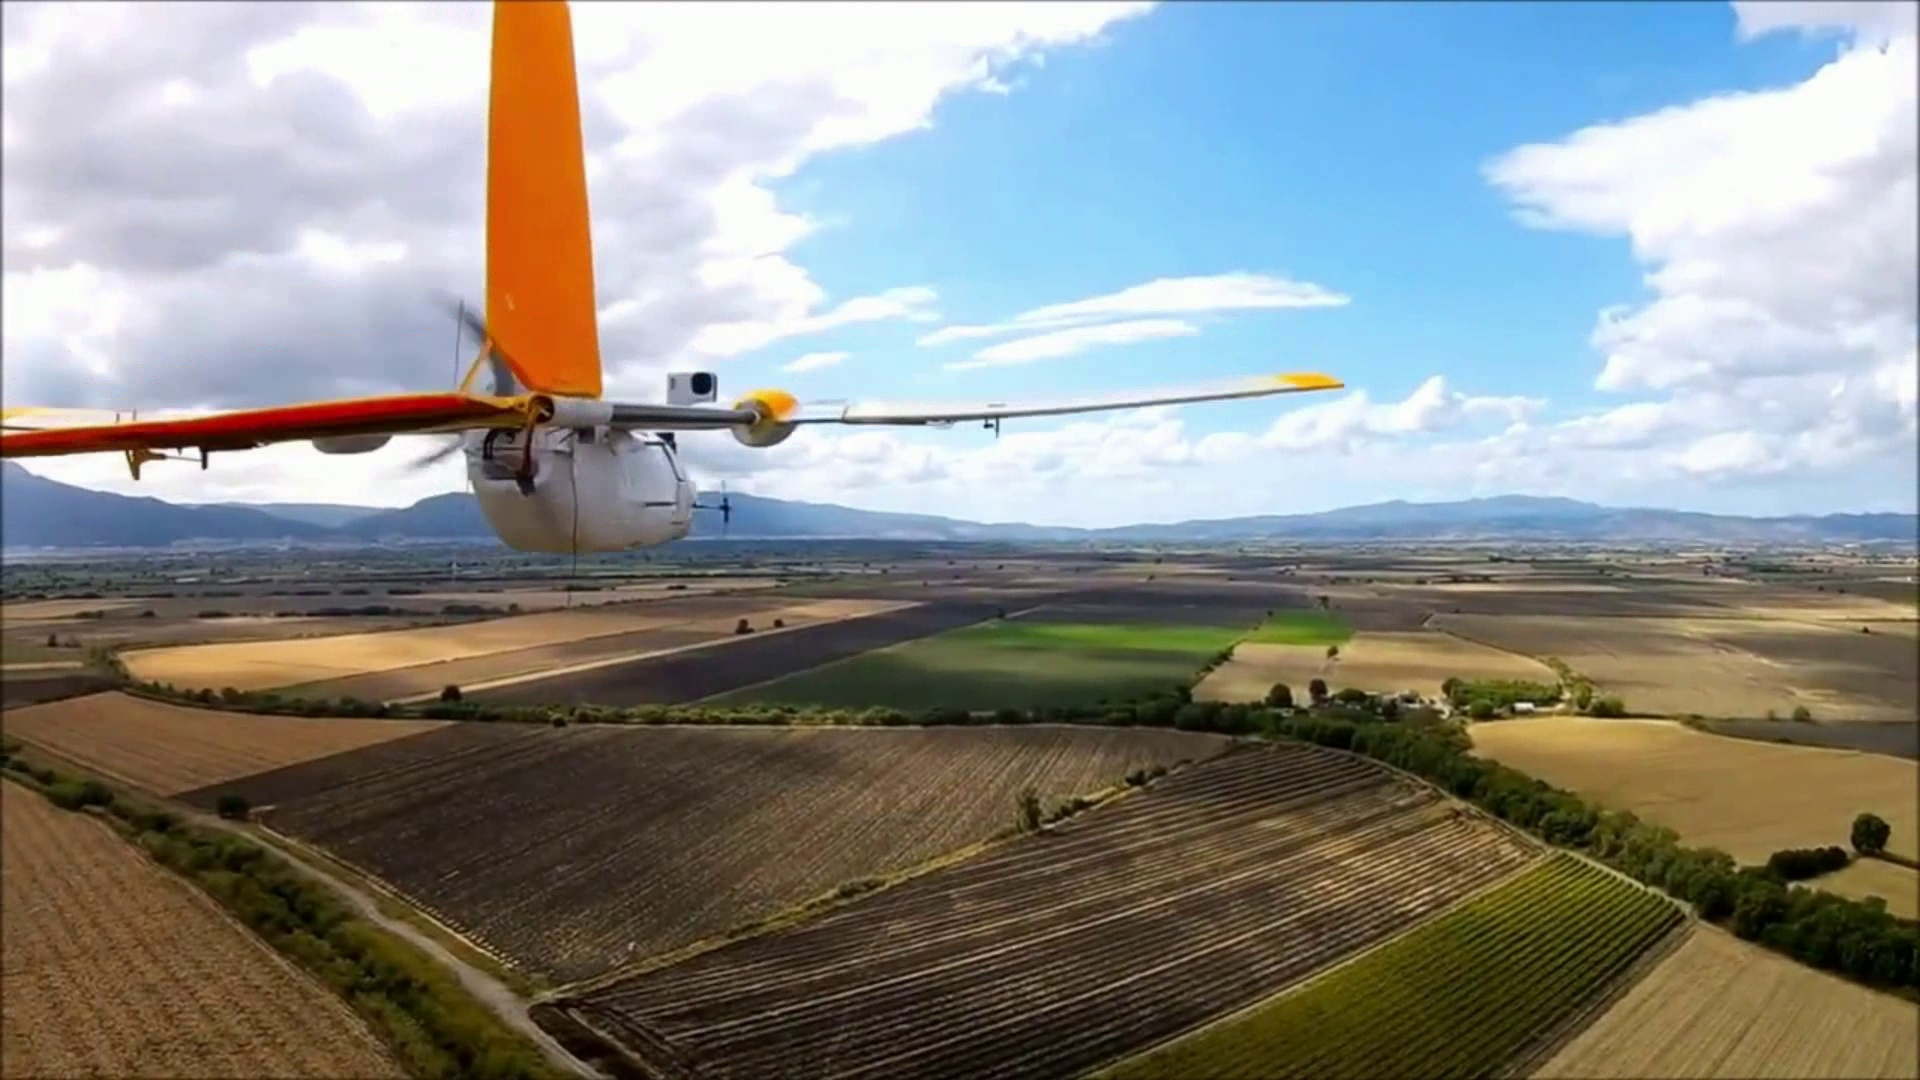airplane: (3, 11, 1348, 560)
